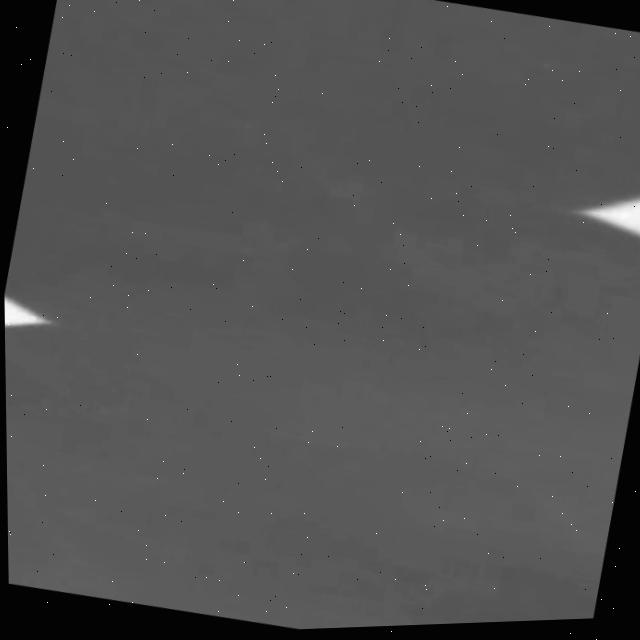center: (575, 196, 640, 237), (4, 296, 50, 326)
